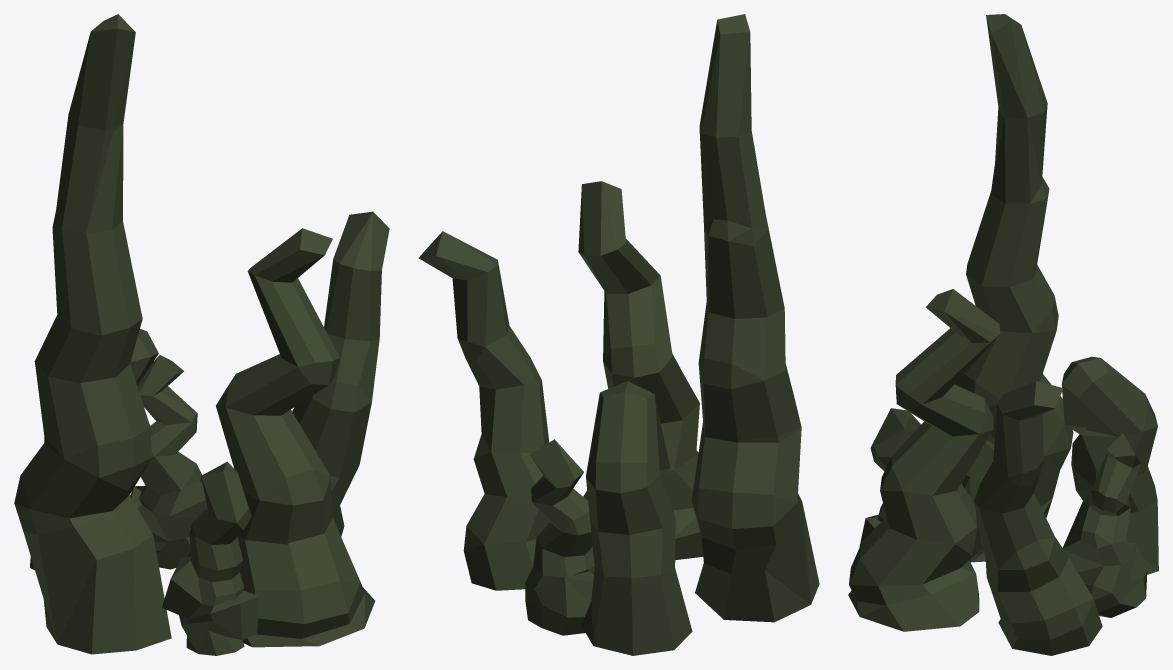
File: EA_Swamp_Grass_Dead_03d.glb
3 views of the same model, side by side, from view 1: azimuth 30°, elevation 25°; view 2: azimuth 150°, elevation 25°; view 3: azimuth 270°, elevation 25° (orthographic). The views are drawn at different scales.
Visible parts, largest first — view 1: EA_Swamp_Grass_Dead_03d; view 2: EA_Swamp_Grass_Dead_03d; view 3: EA_Swamp_Grass_Dead_03d.
Part boxes in pixels (bbox=[...]): EA_Swamp_Grass_Dead_03d: bbox=[14, 14, 389, 655]; EA_Swamp_Grass_Dead_03d: bbox=[418, 14, 819, 655]; EA_Swamp_Grass_Dead_03d: bbox=[848, 14, 1158, 655].
Bounding box in the file's own units: 0.4228 × 0.6685 × 0.3457.
1 material, 1 textured.
